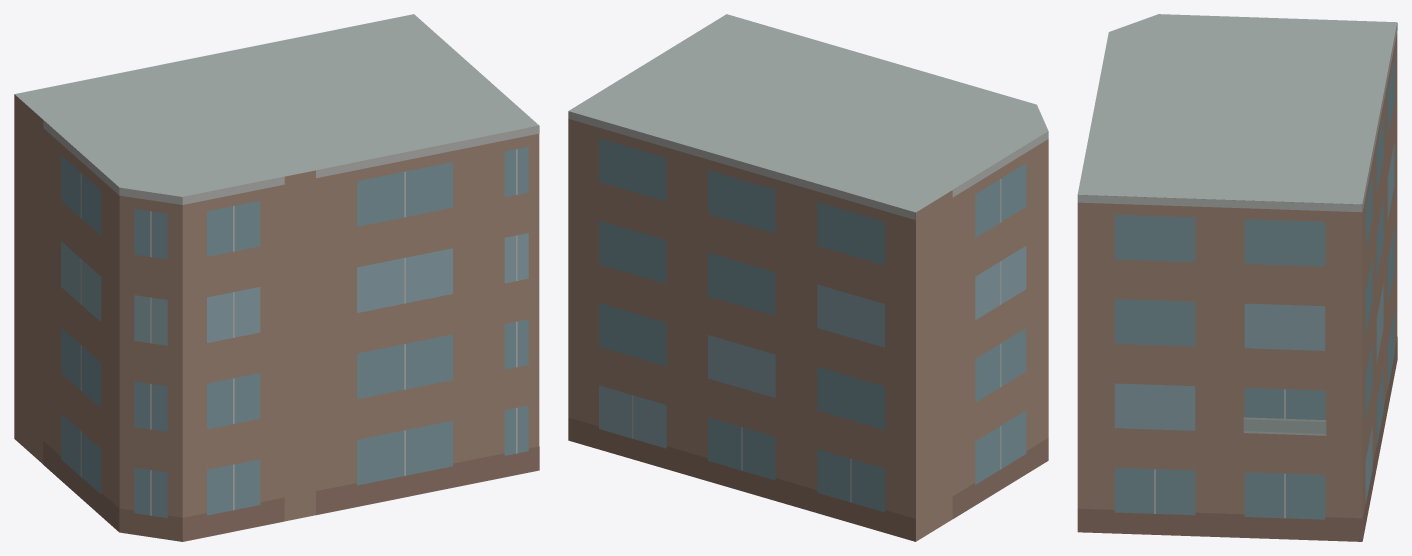
The model's file is survey-upis-32567412.glb.
3 renders of one model, left to right at view 1: azimuth 30°, elevation 25°; view 2: azimuth 150°, elevation 25°; view 3: azimuth 270°, elevation 25°, orthographic. The views are drawn at different scales.
Visible parts, largest first — view 1: survey-upis-32567412.tmp; view 2: survey-upis-32567412.tmp; view 3: survey-upis-32567412.tmp.
Boxes of the visible parts, <box> form: survey-upis-32567412.tmp: <box>14,14,539,541</box>; survey-upis-32567412.tmp: <box>568,14,1048,541</box>; survey-upis-32567412.tmp: <box>1077,14,1397,541</box>.
Bounding box in the file's own units: 12.72 × 10.5 × 9.03.
